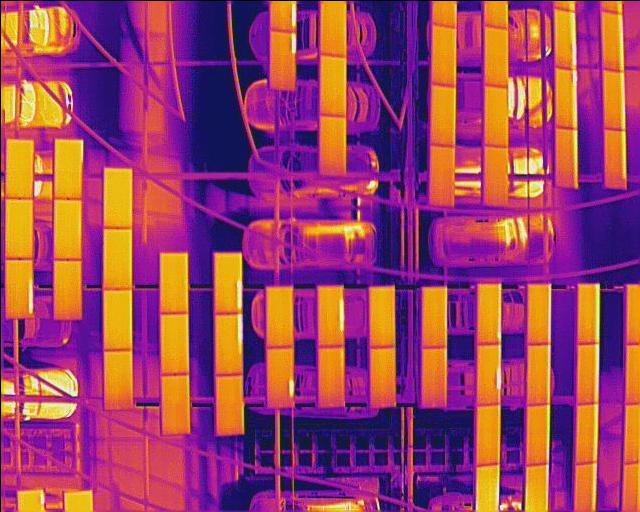Cell: (476, 282, 500, 342)
No-Anomaly: (159, 375, 191, 434), (53, 138, 84, 198), (102, 166, 132, 227), (159, 312, 189, 373), (215, 375, 245, 436), (103, 349, 133, 409), (318, 53, 346, 117), (103, 288, 132, 349), (4, 197, 33, 258), (318, 113, 346, 176), (159, 252, 188, 312), (103, 228, 132, 288), (53, 259, 82, 319), (5, 138, 34, 197), (53, 198, 81, 259), (265, 285, 293, 346), (428, 143, 454, 208), (431, 22, 457, 86), (483, 24, 509, 88), (317, 346, 344, 407), (369, 346, 395, 409), (318, 0, 347, 56), (368, 286, 395, 346), (482, 145, 508, 206), (429, 83, 454, 146), (573, 402, 599, 462), (421, 347, 446, 409), (603, 126, 627, 189), (421, 287, 446, 347), (475, 404, 500, 464), (526, 284, 550, 344), (483, 85, 507, 145), (576, 344, 600, 403), (601, 9, 623, 71), (577, 284, 600, 343), (602, 69, 624, 129), (527, 344, 549, 404), (527, 405, 549, 464), (572, 462, 597, 512), (475, 463, 500, 512), (525, 464, 549, 512)
Unclassified: (213, 253, 243, 312), (5, 258, 35, 317), (214, 313, 243, 374), (267, 30, 296, 91), (265, 346, 293, 409), (317, 286, 344, 346), (476, 343, 500, 404), (555, 125, 578, 188), (555, 66, 577, 128), (555, 8, 576, 69)
